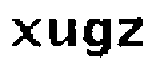g: (82, 16, 115, 60)
u: (44, 17, 79, 51)
x: (9, 17, 43, 49)
z: (116, 16, 149, 49)
